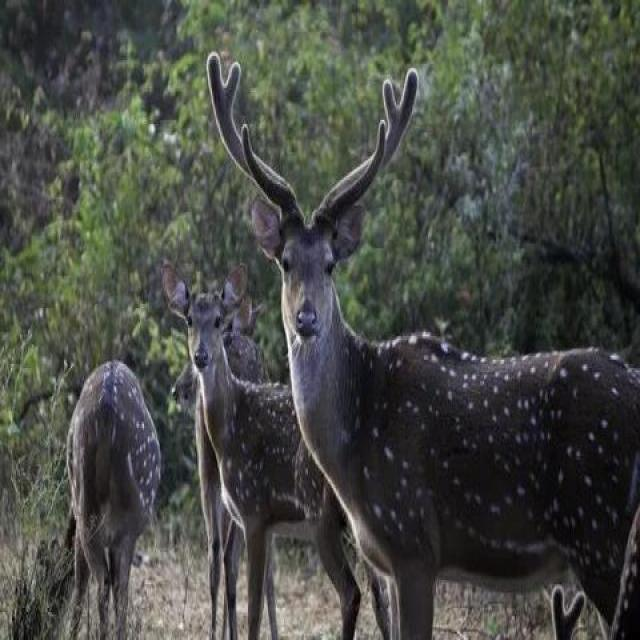deer: (228, 73, 640, 620), (172, 280, 394, 579), (42, 331, 196, 637)
